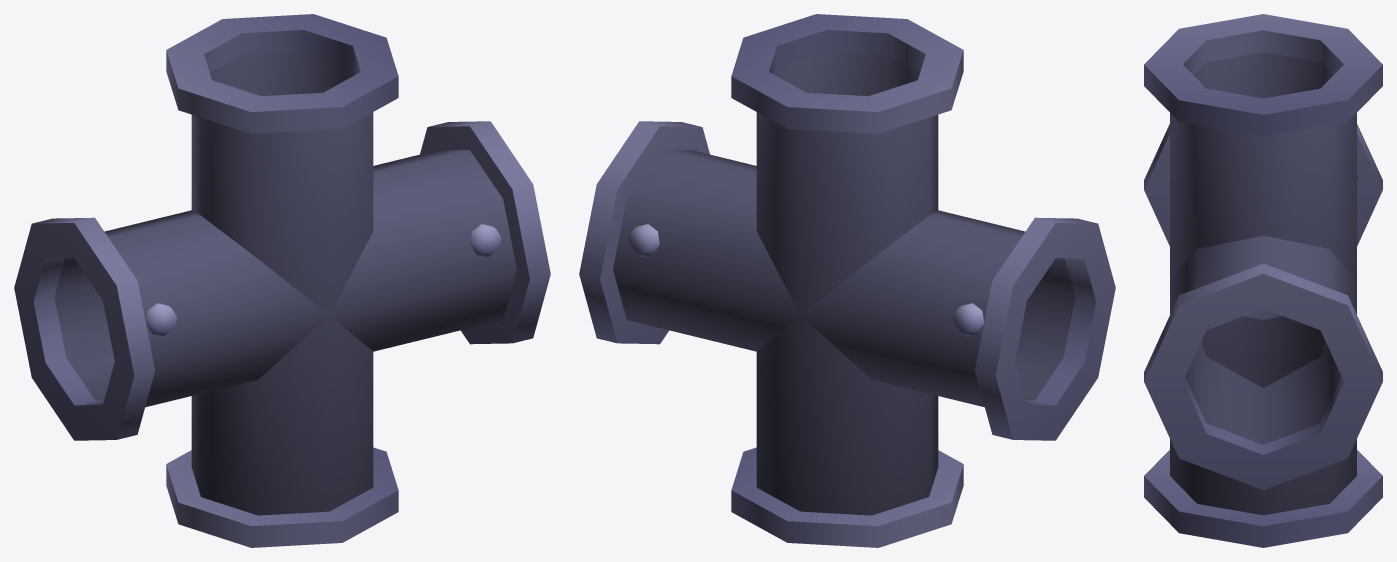
The model's file is kenney-factory-pipe-large-cross.glb.
3 renders of one model, left to right at view 1: azimuth 30°, elevation 25°; view 2: azimuth 150°, elevation 25°; view 3: azimuth 270°, elevation 25°, orthographic.
Visible parts, largest first — view 1: pipe-large-cross; view 2: pipe-large-cross; view 3: pipe-large-cross.
Boxes of the visible parts, x1,y1,x2,y2 form: pipe-large-cross: (14, 14, 550, 547); pipe-large-cross: (579, 14, 1115, 547); pipe-large-cross: (1144, 14, 1382, 547).
Size of the model in its own units: 3 by 3 by 1.5.
Materials: 1 (1 with a texture image).
